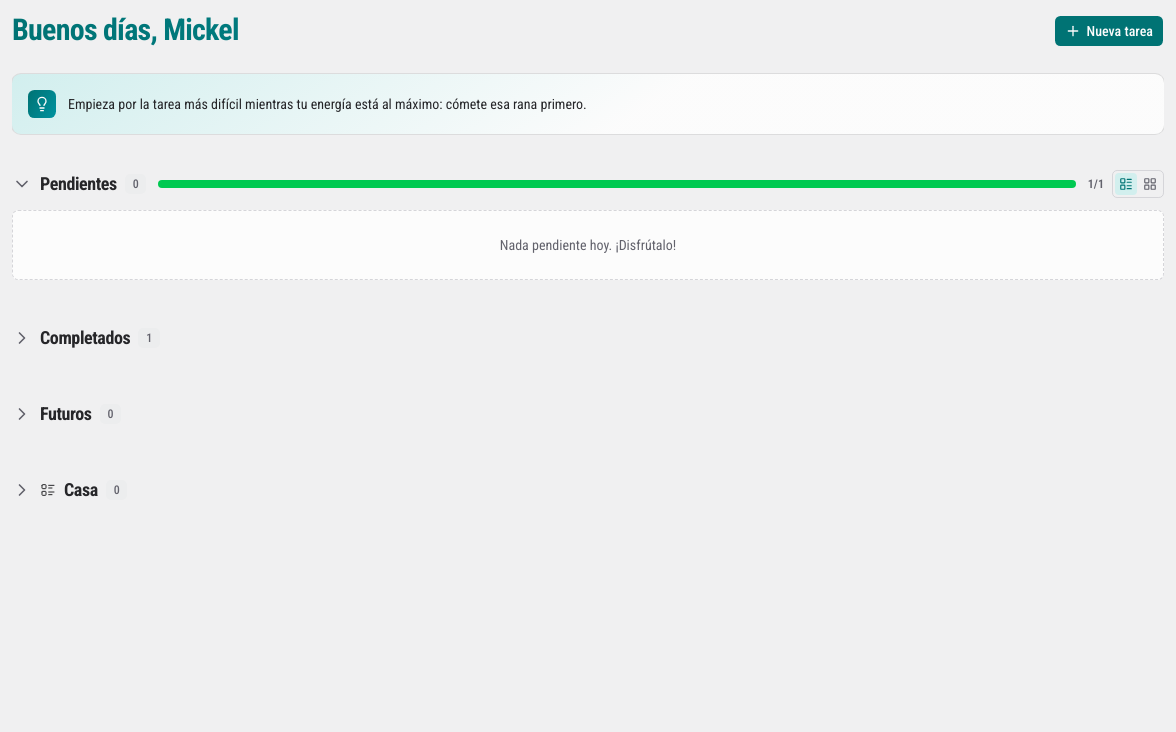
it: Completadas en el home › al desplegarla lista lo del día del usuario que trae el tablero, no el historial reciente
Click the button with test id "section-completed".
click(86, 338)  # box [12, 312, 160, 364]
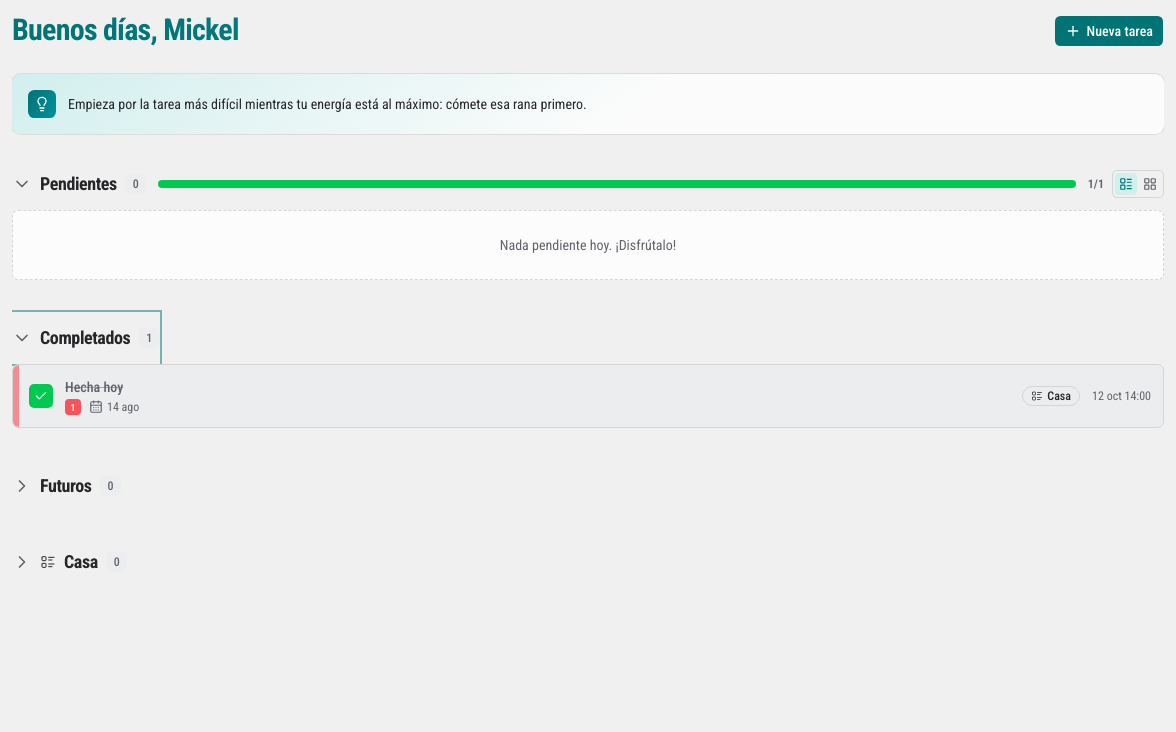
Result: the text "Hecha hoy" is shown at [65, 379, 123, 395]
